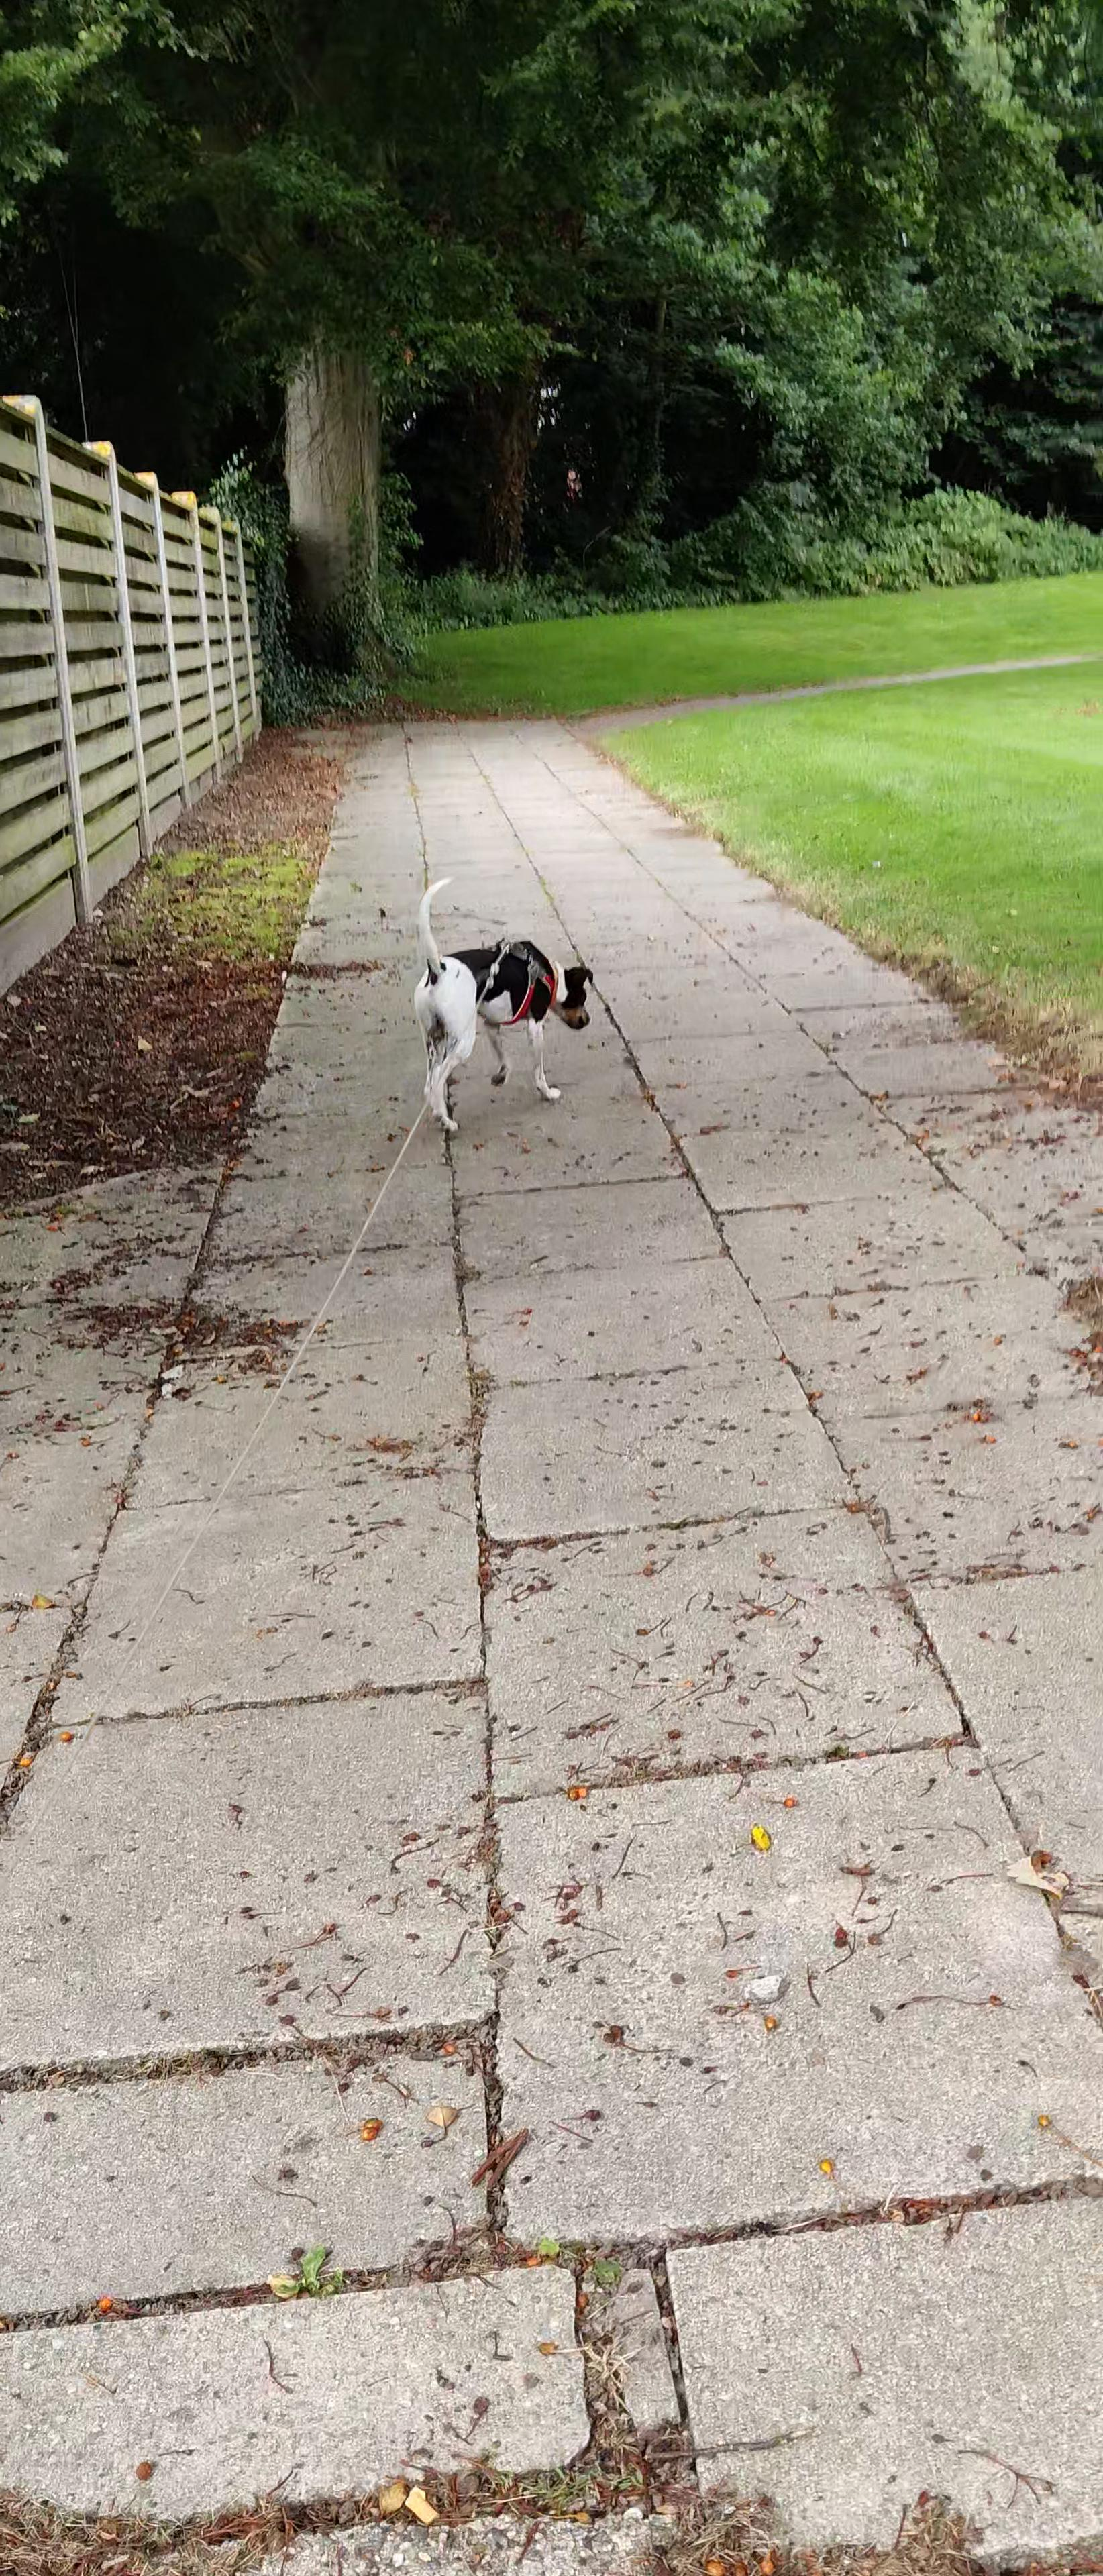Dog: (391, 861, 613, 1147)
